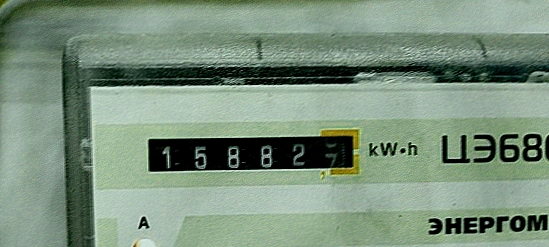1: (159, 143, 173, 171)
2: (290, 141, 306, 169)
5: (191, 143, 209, 171)
7: (322, 151, 338, 168)
8: (224, 143, 240, 171), (258, 142, 273, 170)
screen: (133, 122, 369, 185)
